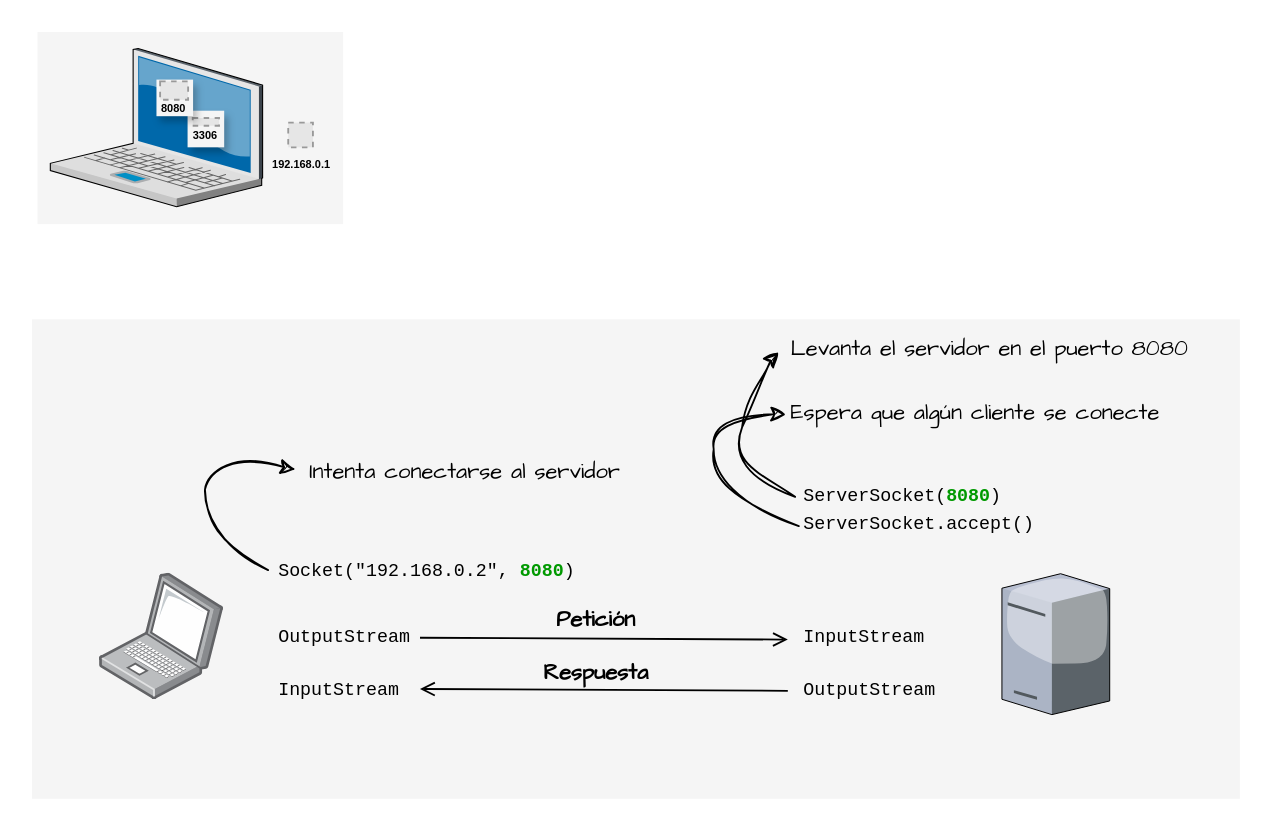
Image size: 1270x829. Some labels were removed from this diagram. Grey dashed boxes stand in for pictures. The centre of each missing label's shape, as x and y in pixels:
"Cliente 192.168.0.1 : 8081" belongs at (x=161, y=636).
"Servidor 192.168.0.2 : 8080" belongs at (x=1055, y=643).
